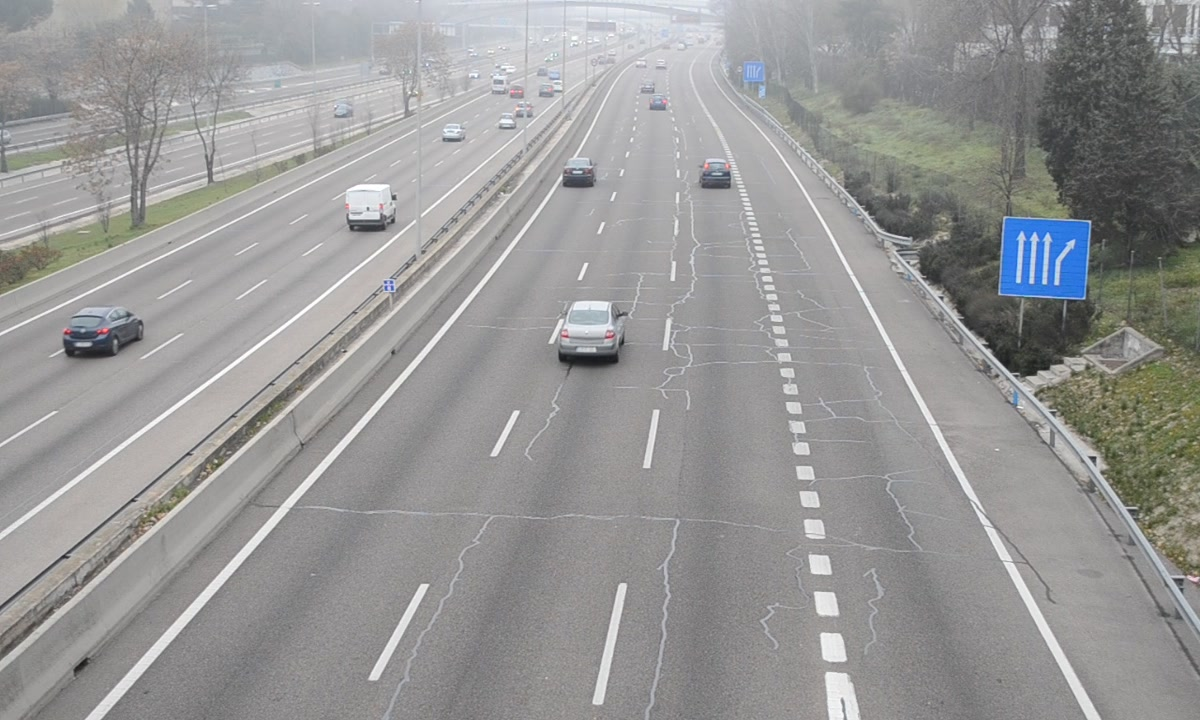car: (560, 303, 622, 362), (562, 157, 596, 188), (700, 159, 732, 190)
